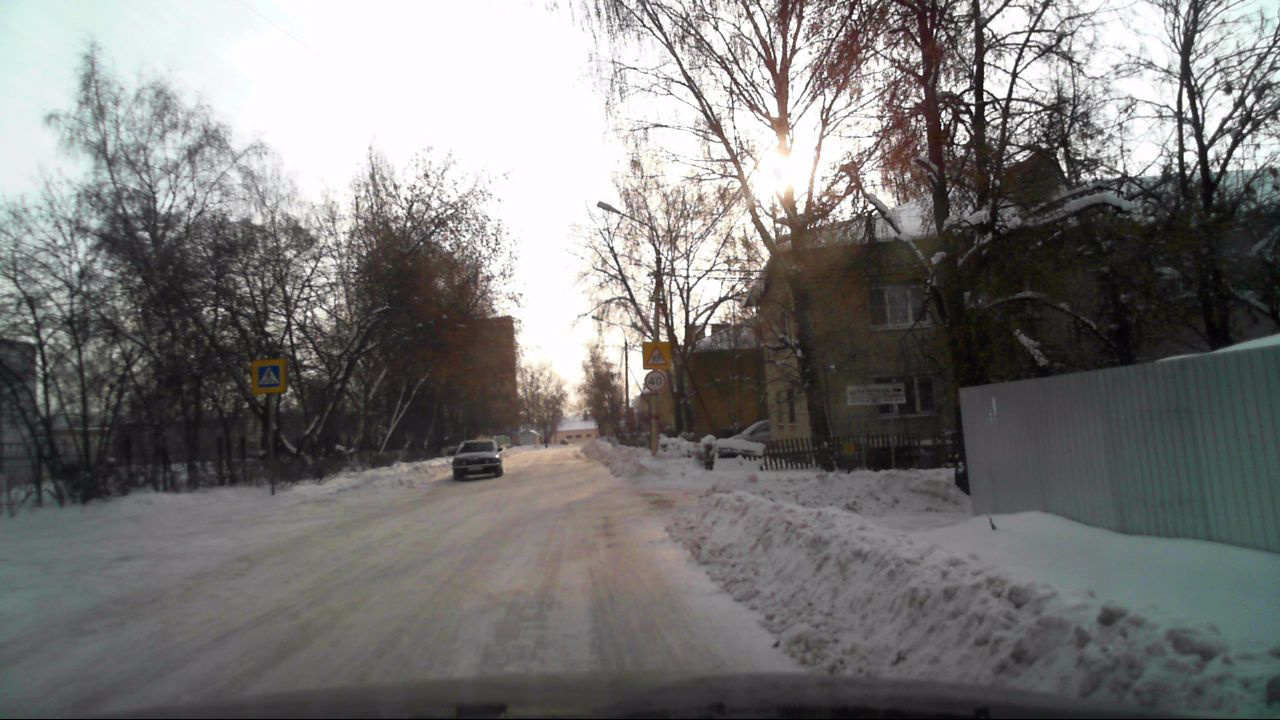speed_warning_40: (645, 371, 666, 391)
